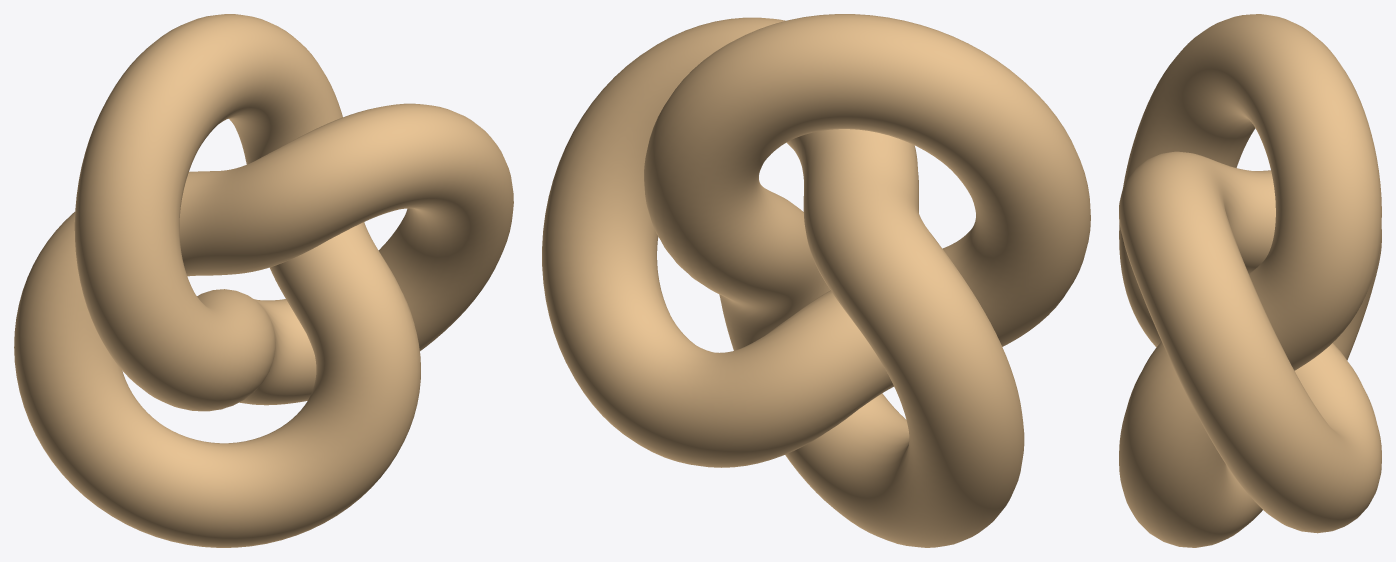
Rendered from loom-weave.glb.
3 renders of one model, left to right at view 1: azimuth 30°, elevation 25°; view 2: azimuth 150°, elevation 25°; view 3: azimuth 270°, elevation 25°, orthographic. The views are drawn at different scales.
Parts seen in each view (by area): view 1: loom-weave; view 2: loom-weave; view 3: loom-weave.
Boxes of the visible parts, x1,y1,x2,y2 form: loom-weave: [14, 14, 513, 547]; loom-weave: [542, 14, 1090, 547]; loom-weave: [1119, 14, 1381, 547].
Bounding box in the file's own units: 0.7397 × 0.7718 × 0.3687.
